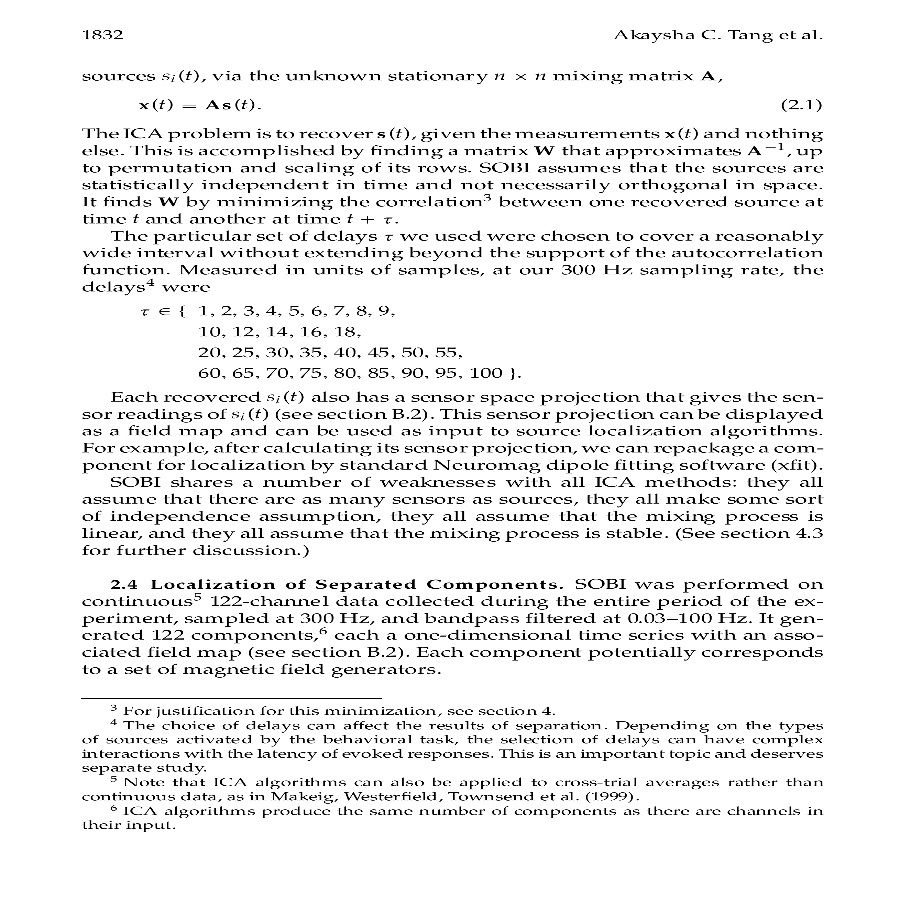eq: (138, 302, 516, 384), (136, 95, 260, 115)
